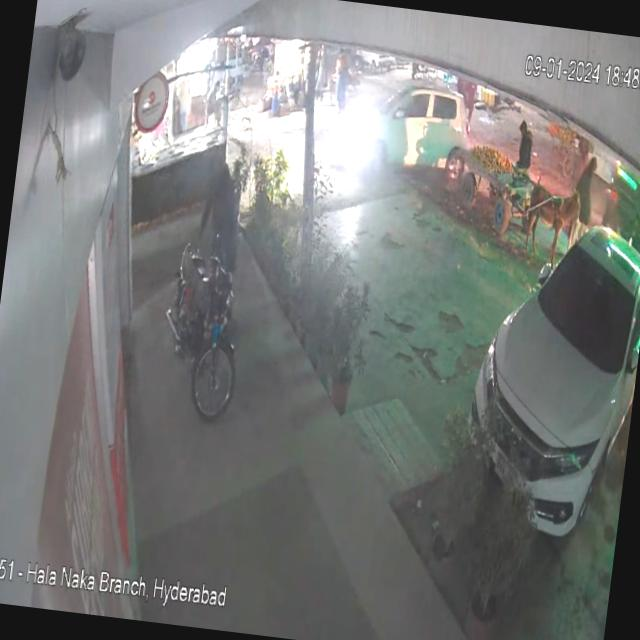Car: (451, 193, 640, 561), (318, 62, 486, 202)
